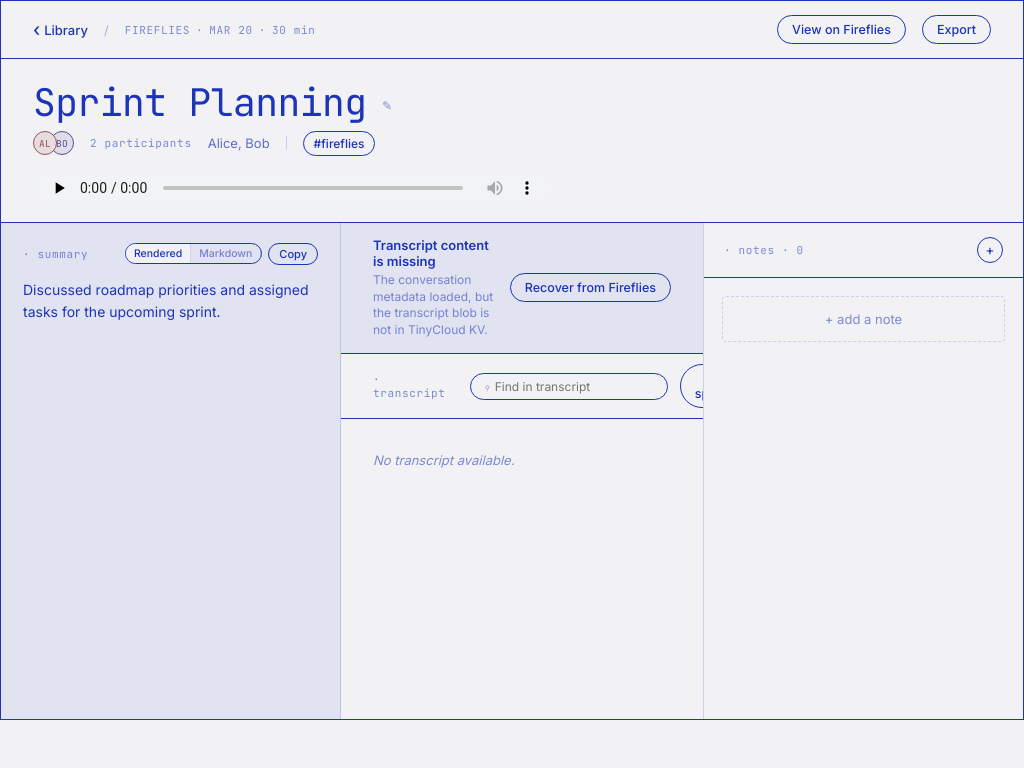
it: ConversationDetail › recovers a missing Fireflies transcript and updates the transcript pane
Click the button "Recover from Fireflies".
click(590, 288)  # box top-left (510, 274), bottom-right (671, 302)
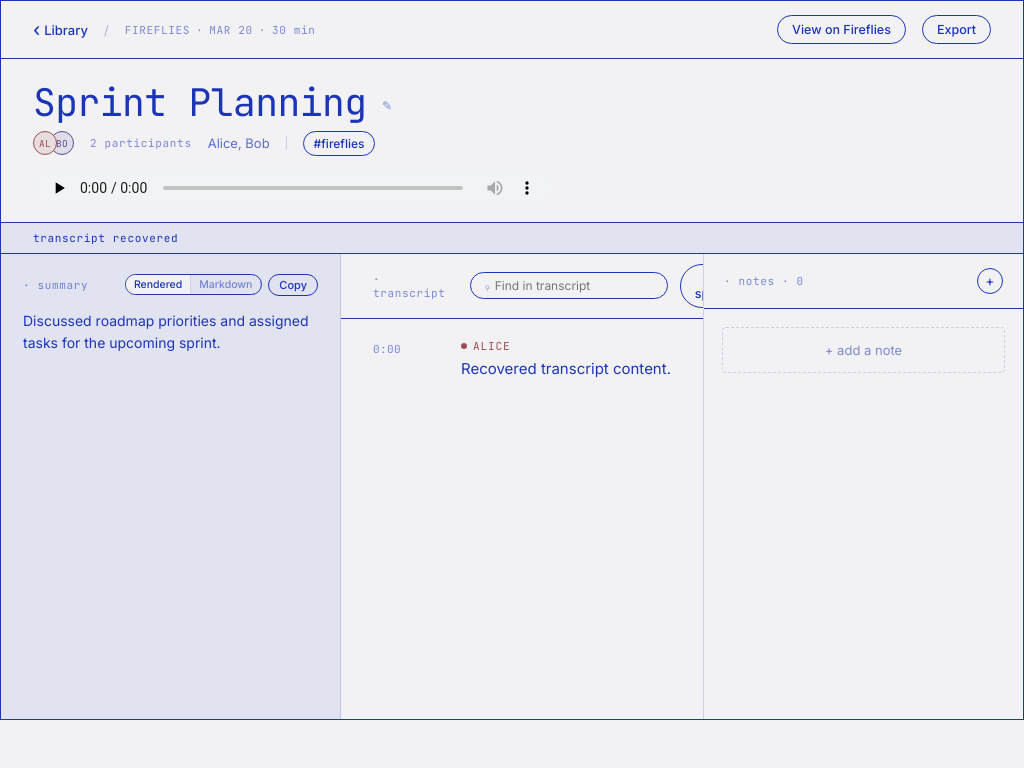
Expected: the text "Recovered transcript content." is shown, top-left (461, 357), bottom-right (671, 380)
Expected: the text "Transcript content is missing" is gone
